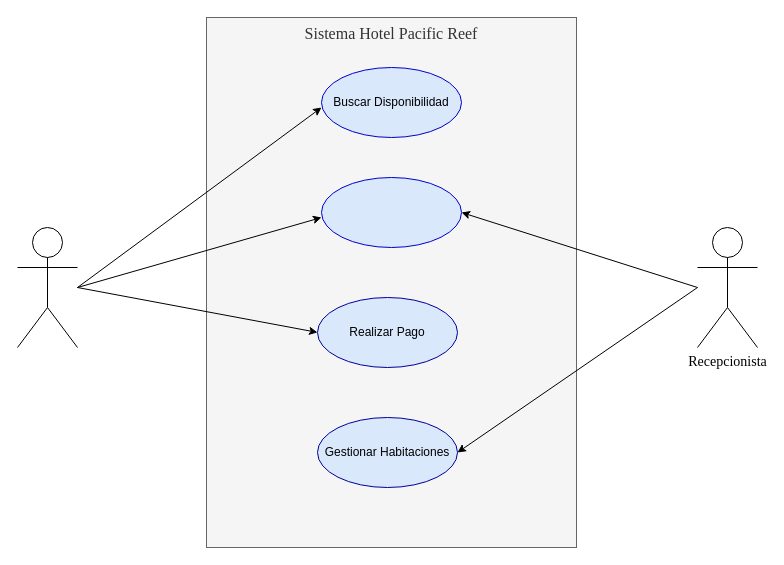
Image size: 784x565. Some labels were removed from this diagram. The shapes that lost their labels are listed below. From the top down, each one's box as (x1, y1, x2, y2) in pixels, then its label:
(320, 176, 462, 248): Registrar Reserva
(16, 226, 78, 348): Turista
